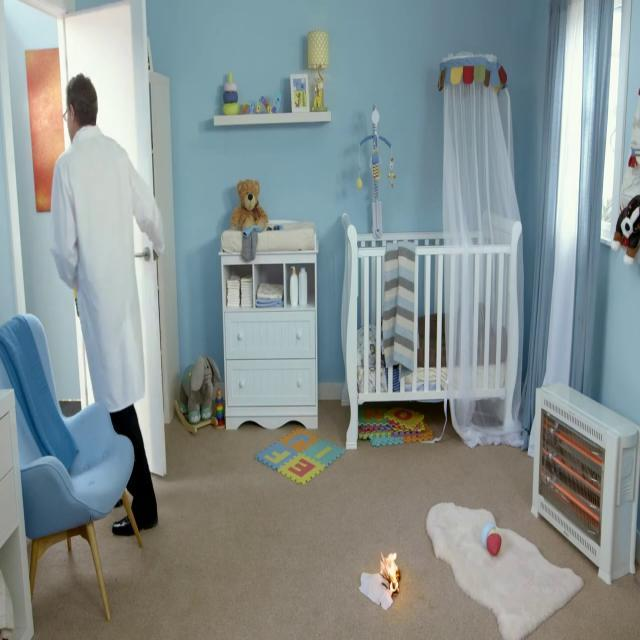Fire: (381, 546, 402, 594)
